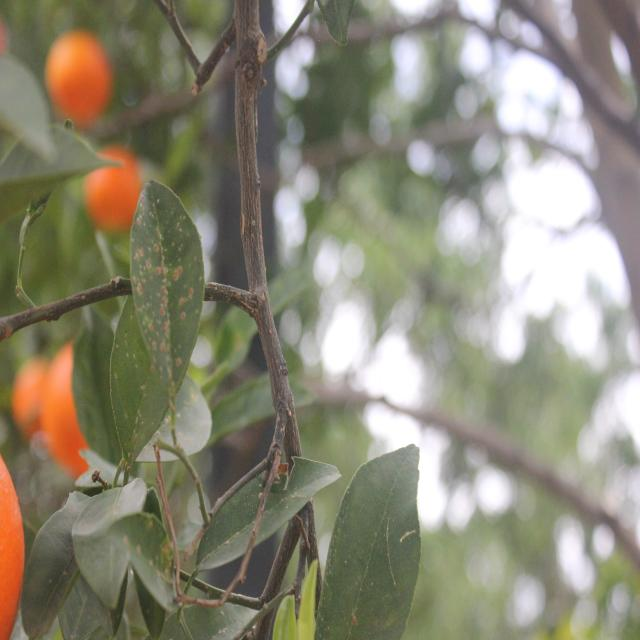canker: (133, 190, 196, 377), (119, 323, 155, 455), (124, 524, 180, 600), (335, 568, 379, 637), (152, 394, 199, 446), (208, 621, 230, 639)
